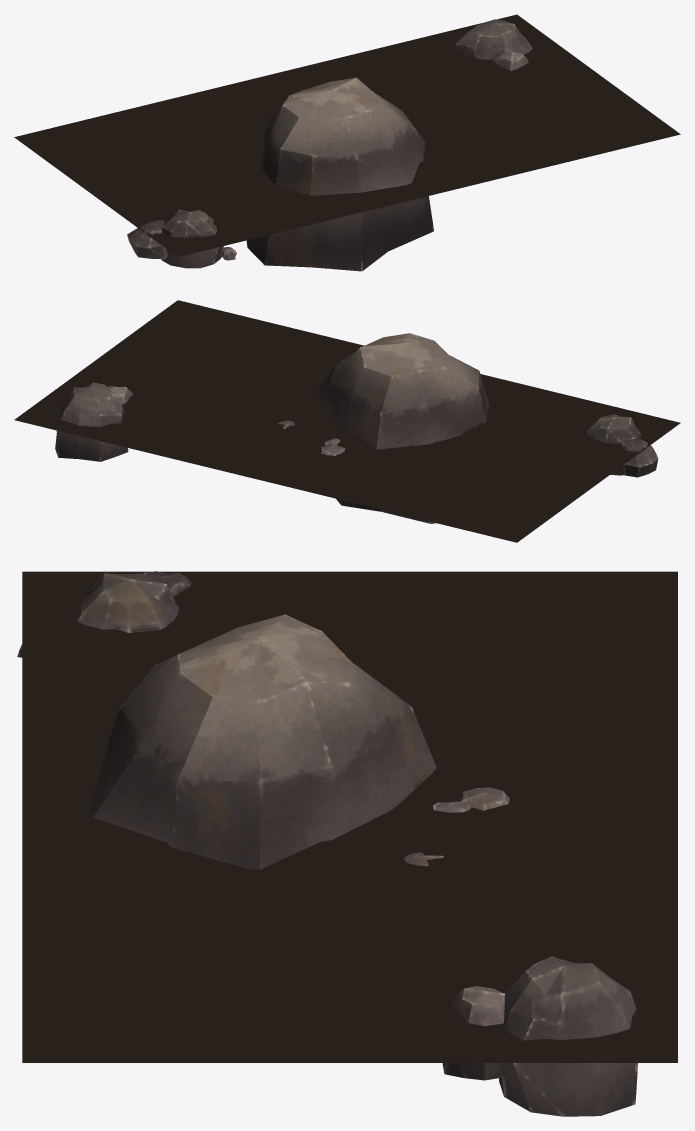
The picture shows the model from 3 angles, top to bottom: view 1: azimuth 30°, elevation 25°; view 2: azimuth 150°, elevation 25°; view 3: azimuth 270°, elevation 25°; orthographic projection. The views are drawn at different scales.
Visible parts, largest first — view 1: GroundShade, Stones; view 2: GroundShade, Stones; view 3: GroundShade, Stones.
Part boxes in pixels (left/top/right/bottom): GroundShade: left=14, top=14, right=680, bottom=256; Stones: left=127, top=19, right=532, bottom=271; GroundShade: left=14, top=300, right=680, bottom=542; Stones: left=55, top=333, right=658, bottom=523; GroundShade: left=22, top=571, right=677, bottom=1062; Stones: left=17, top=571, right=638, bottom=1116.
Size of the model in its own units: 45.04 by 12.41 by 25.11.
Materials: 2 (2 with a texture image).
